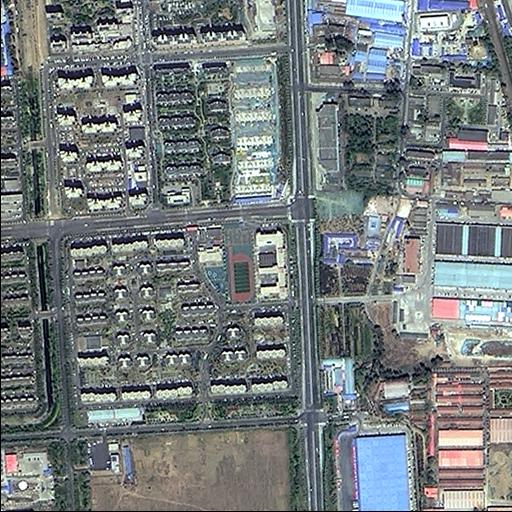school: (222, 217, 291, 308)
